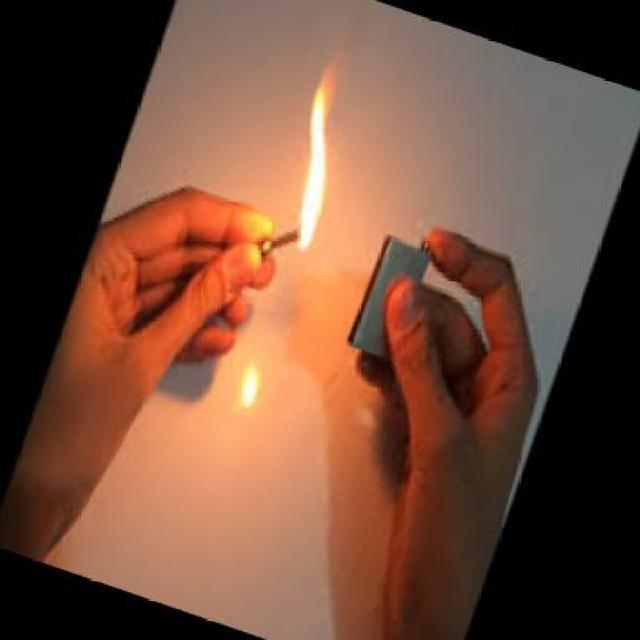Fire: (288, 44, 341, 255)
